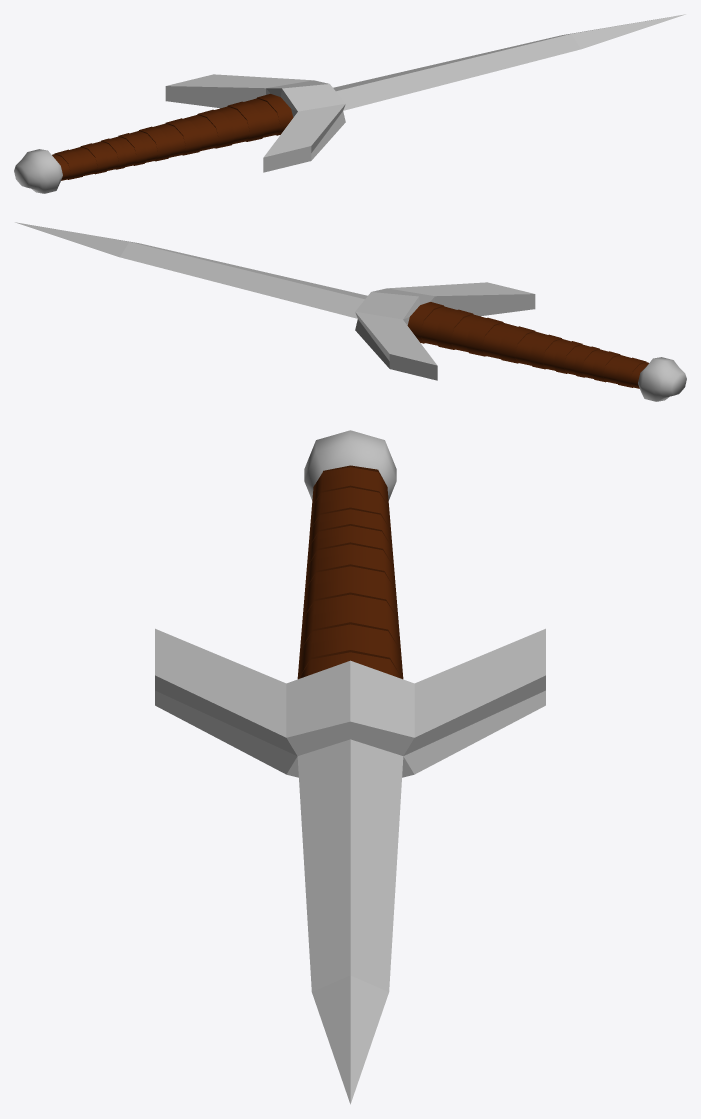
Rendered from Dagger.fbx.
3 renders of one model, top to bottom at view 1: azimuth 30°, elevation 25°; view 2: azimuth 150°, elevation 25°; view 3: azimuth 270°, elevation 25°, orthographic. The views are drawn at different scales.
Parts seen in each view (by area): view 1: pCube1; view 2: pCube1; view 3: pCube1.
Boxes of the visible parts, <box> form: pCube1: <box>14,14,685,193</box>; pCube1: <box>15,222,686,401</box>; pCube1: <box>155,430,545,1104</box>.
Size of the model in its own units: 35.83 by 2.51 by 9.12.
